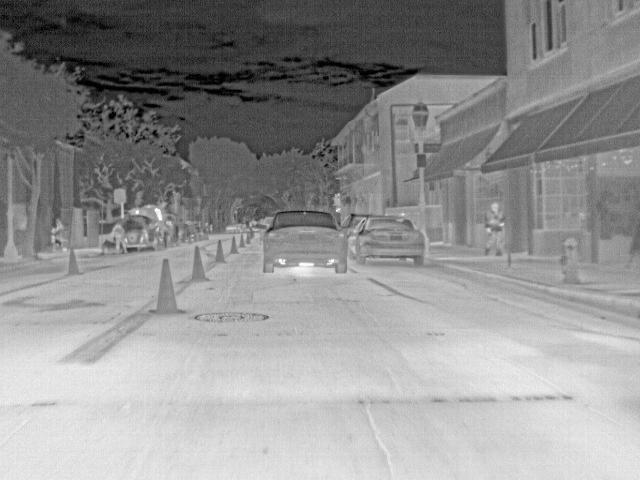car: (265, 210, 346, 273), (347, 215, 429, 265), (123, 210, 153, 250), (160, 216, 186, 244), (255, 218, 272, 234), (224, 223, 240, 235)
person: (485, 200, 504, 257), (110, 219, 127, 254), (49, 218, 65, 250)
